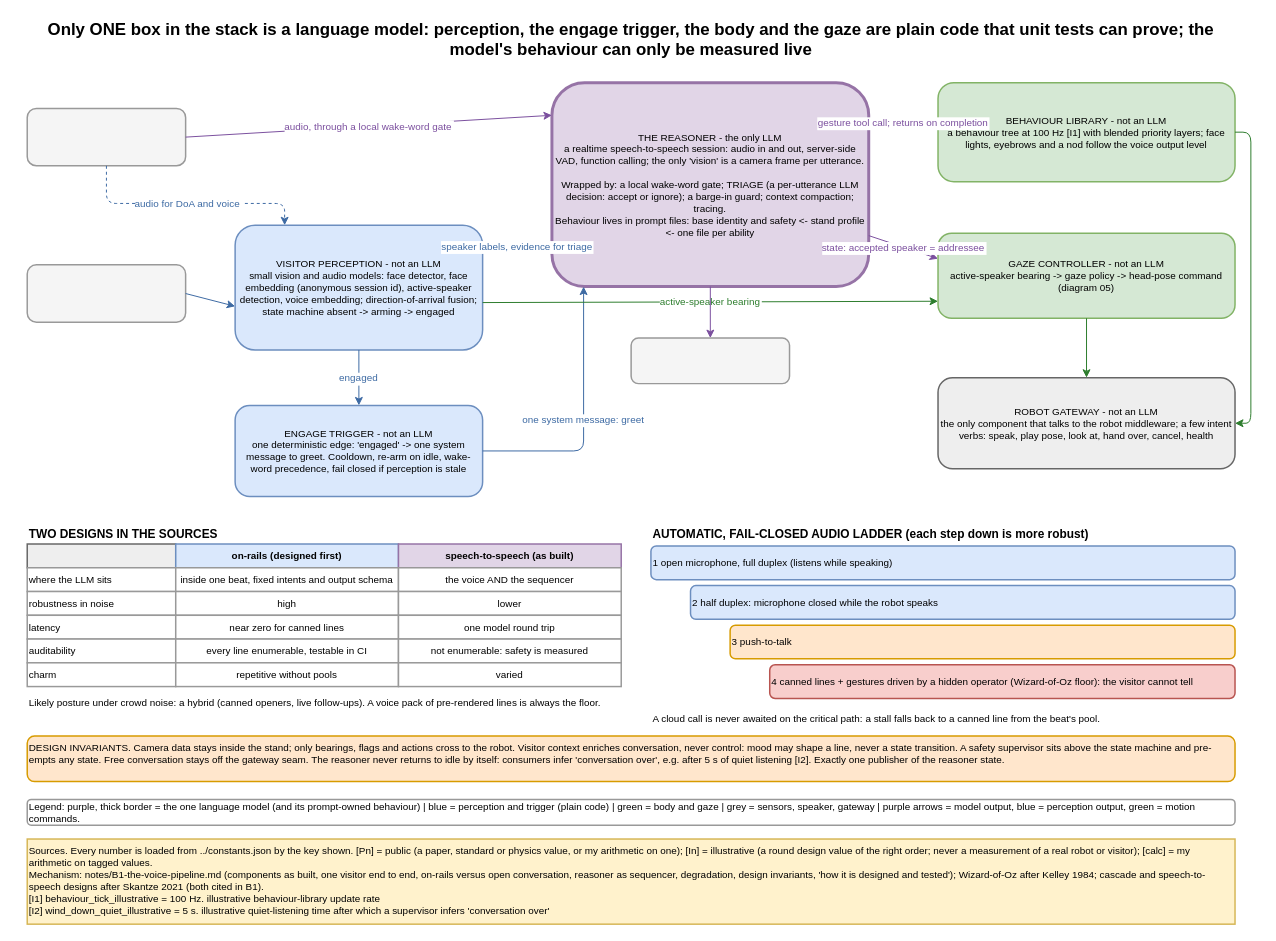
Some shapes in this 1276 by 941 pixel diagram are drawn without their labels. Each missing label, with the box of its shape:
HEAD CAMERA frames stay inside the stand: (26, 264, 186, 323)
LOUDSPEAKER robot voice out: (630, 337, 790, 384)
MICROPHONE ARRAY audio in: (26, 107, 186, 166)
